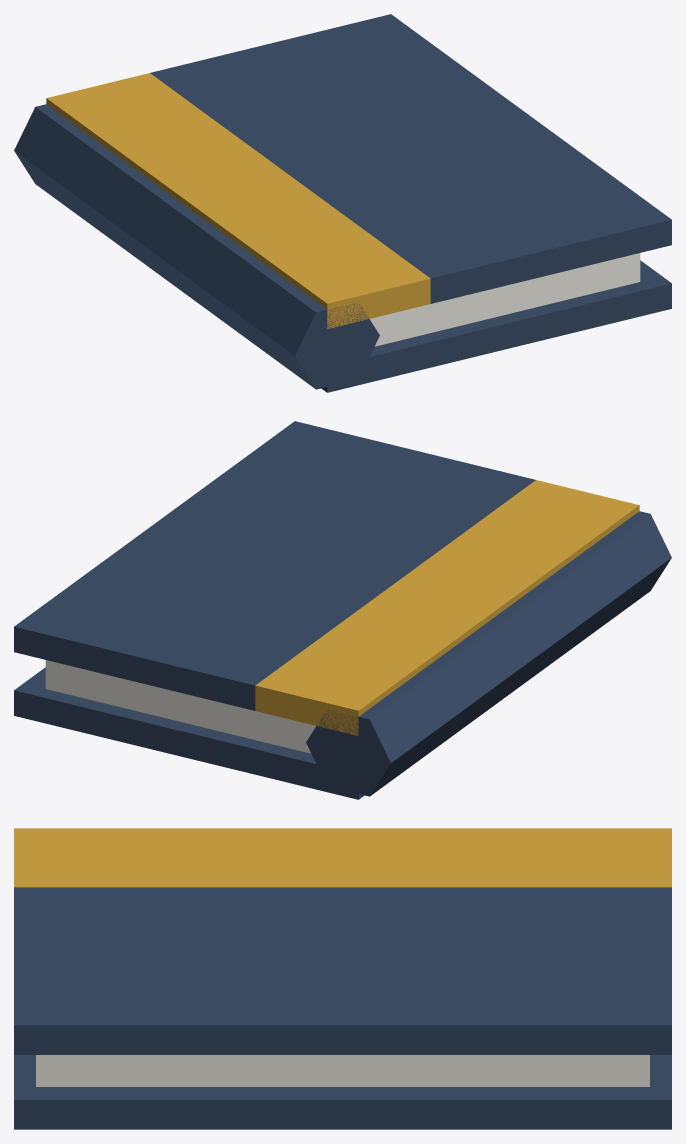
Rendered from SM_LPI_Decor_Book_01.fbx.
3 views of the same model, one above another, from view 1: azimuth 30°, elevation 25°; view 2: azimuth 150°, elevation 25°; view 3: azimuth 270°, elevation 25° (orthographic). The views are drawn at different scales.
Visible parts, largest first — view 1: SM_LPI_Decor_Book_01; view 2: SM_LPI_Decor_Book_01; view 3: SM_LPI_Decor_Book_01.
Part boxes in pixels (x1,y1,x2,y2): SM_LPI_Decor_Book_01: (14,14,671,392); SM_LPI_Decor_Book_01: (14,421,671,799); SM_LPI_Decor_Book_01: (14,828,671,1129).
Size of the model in its own units: 0.186 by 0.042 by 0.24.
